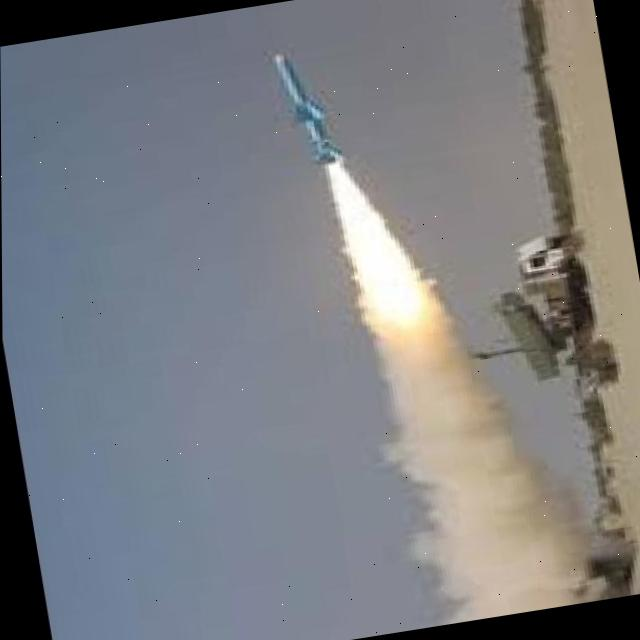missile: (272, 44, 343, 173)
